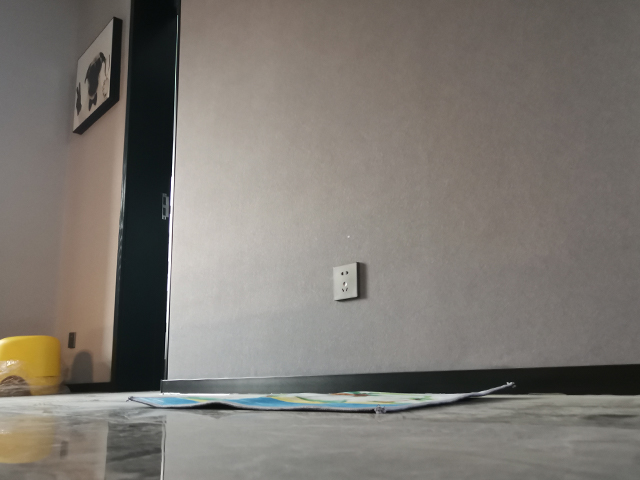carpet: (125, 379, 517, 416)
stool: (1, 333, 65, 398)
